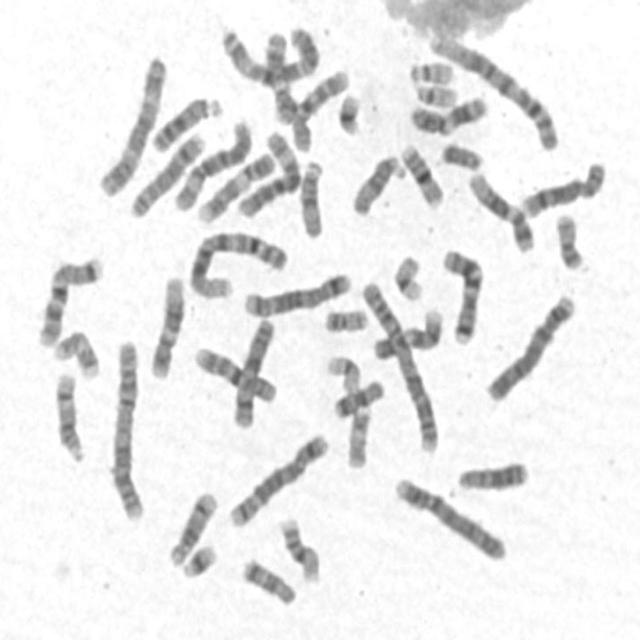A1: (422, 25, 564, 152), (183, 222, 291, 301)
A2: (355, 271, 442, 456), (104, 330, 148, 522)
A3: (92, 47, 169, 198), (215, 18, 323, 86)
B4: (388, 468, 509, 565), (480, 286, 578, 404)
B5: (222, 426, 332, 530), (238, 264, 354, 318)
C10: (284, 59, 351, 152), (188, 338, 279, 404)
C11: (257, 24, 300, 125), (404, 88, 489, 136)
C12: (462, 163, 538, 254), (143, 268, 187, 381)
C6: (168, 110, 254, 212), (232, 123, 303, 220)
C7: (31, 247, 106, 349), (436, 240, 486, 347)
C8: (123, 125, 208, 220), (515, 153, 609, 220)
C9: (192, 144, 277, 224), (368, 300, 445, 362)
D13: (144, 89, 224, 154), (450, 452, 530, 493)
D14: (163, 483, 220, 569), (48, 365, 87, 464)
D15: (346, 147, 406, 218), (294, 152, 326, 241)
E16: (273, 508, 323, 584), (395, 136, 446, 210)
E17: (48, 322, 102, 381), (341, 399, 374, 471)
E18: (235, 549, 299, 608), (327, 371, 386, 420)
F19: (387, 247, 426, 303), (320, 348, 363, 395)
F20: (549, 204, 587, 272), (318, 300, 370, 335)
G21: (176, 534, 220, 580), (332, 84, 364, 138)
G22: (403, 52, 457, 87), (408, 75, 460, 108)
X: (225, 309, 278, 432)
Y: (434, 134, 484, 171)
